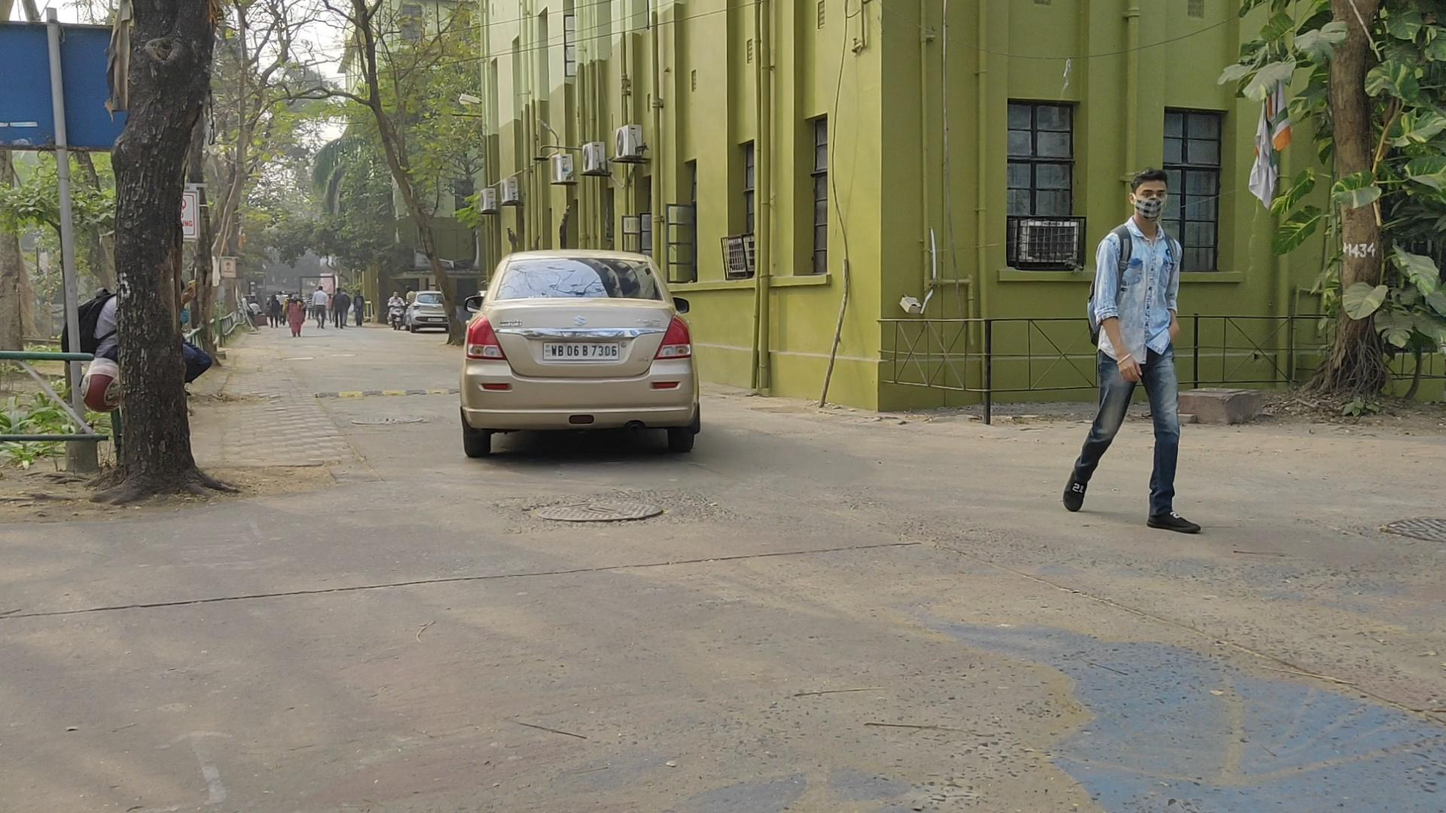bike: (386, 291, 407, 332)
car: (459, 250, 703, 458), (404, 290, 449, 335)
